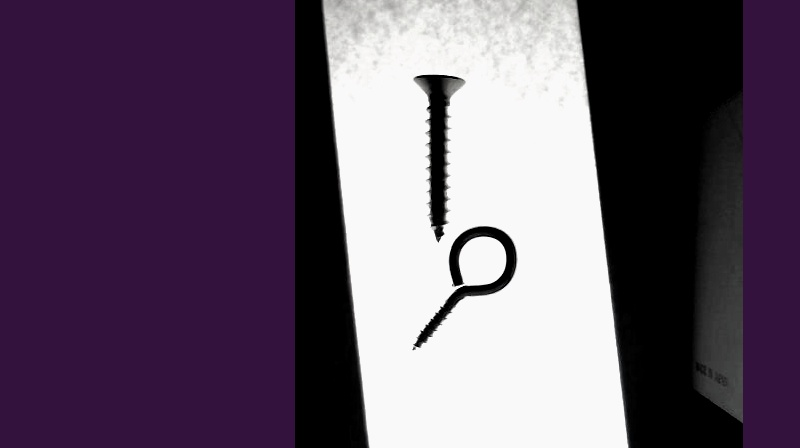O001: (410, 224, 518, 353)
S001: (413, 71, 463, 245)
